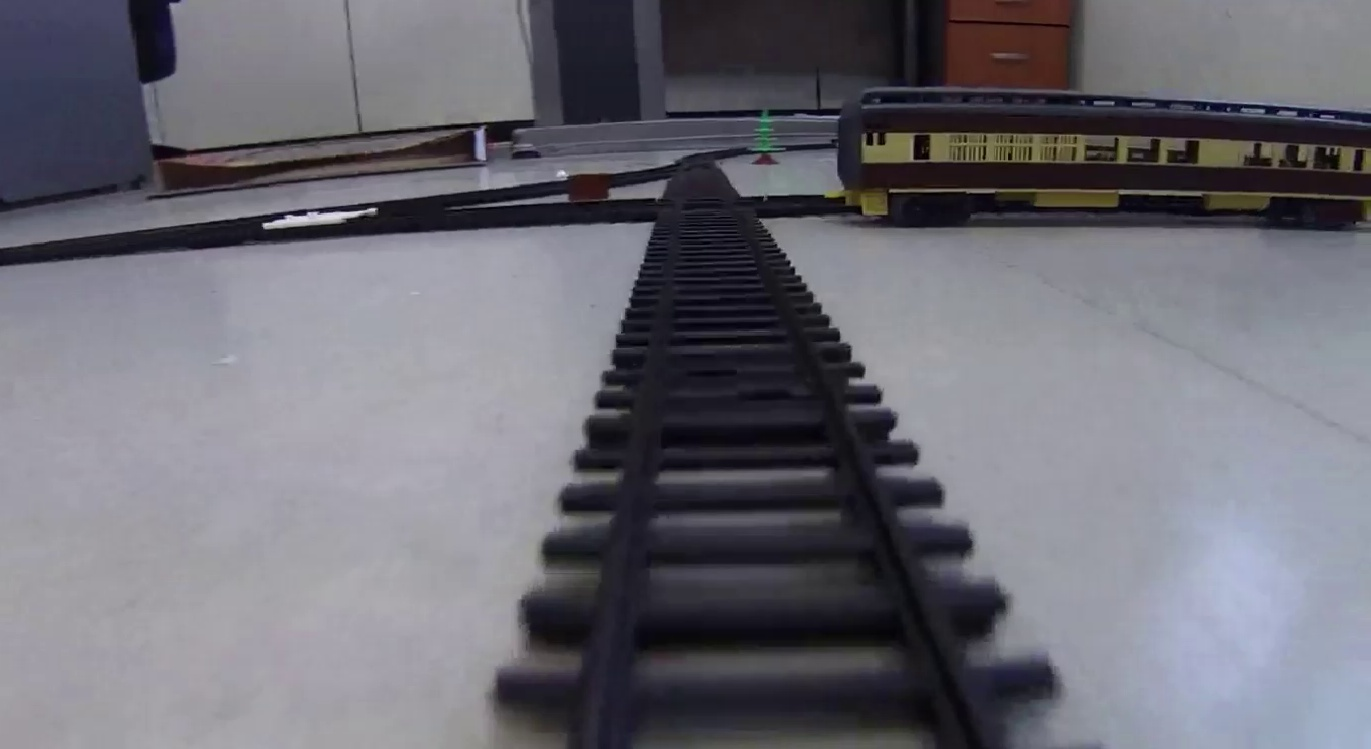box: (566, 173, 611, 203)
tree: (747, 109, 788, 166)
